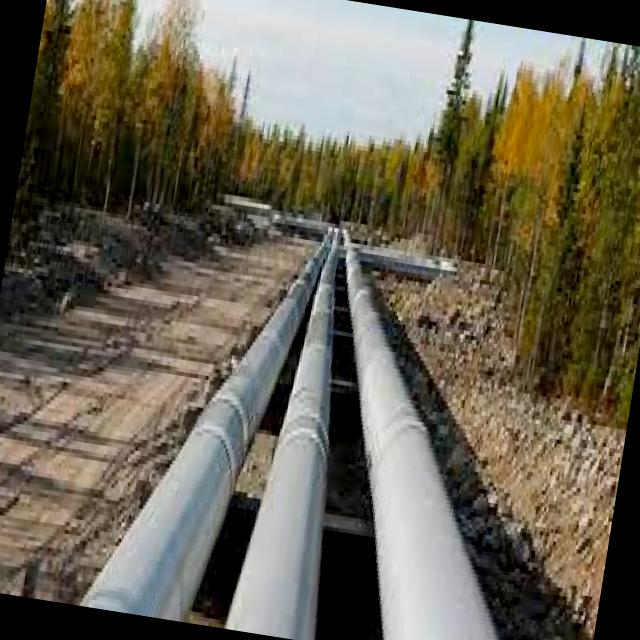gas: (80, 235, 331, 622), (345, 236, 498, 640), (226, 230, 342, 640)
